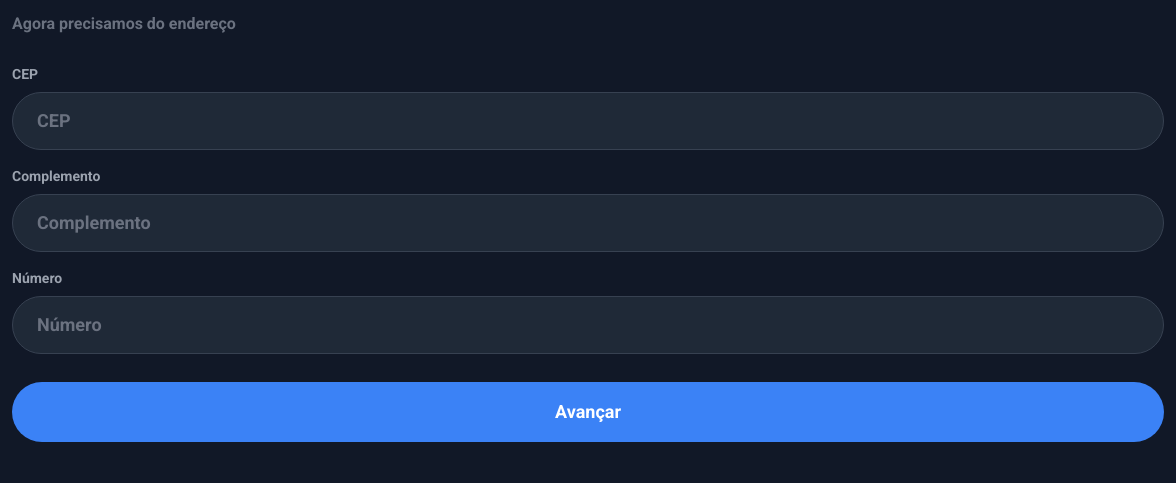
it: FormSchoolAddress › Should be validation in fields if is empty
What coordinates should you click on to do the following:
click the button "Avançar"
I would click on:
 (588, 412)
Its box is [555,398,621,426].
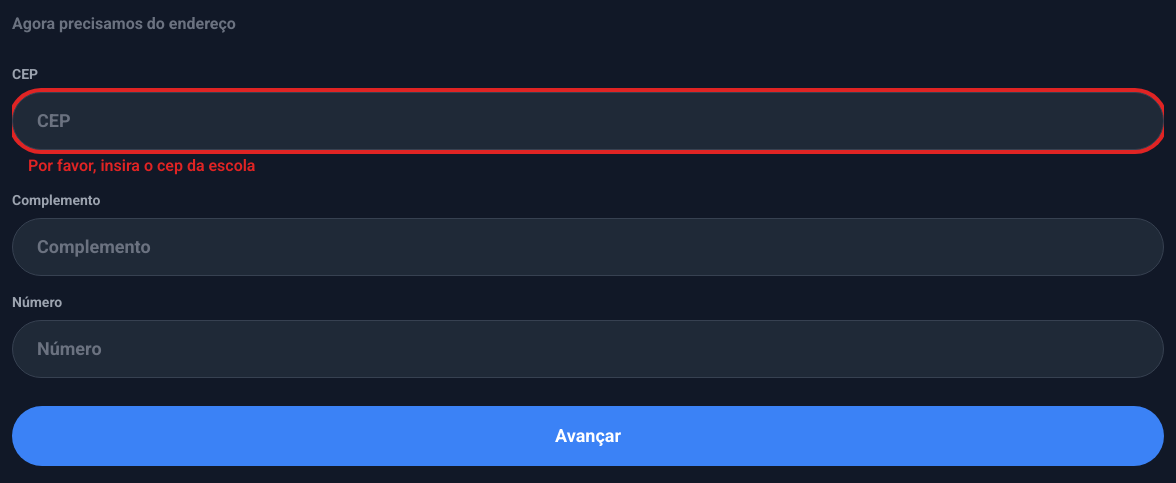
Expected: the text "Por favor, insira o cep da escola" is shown, [28,156,256,175]
